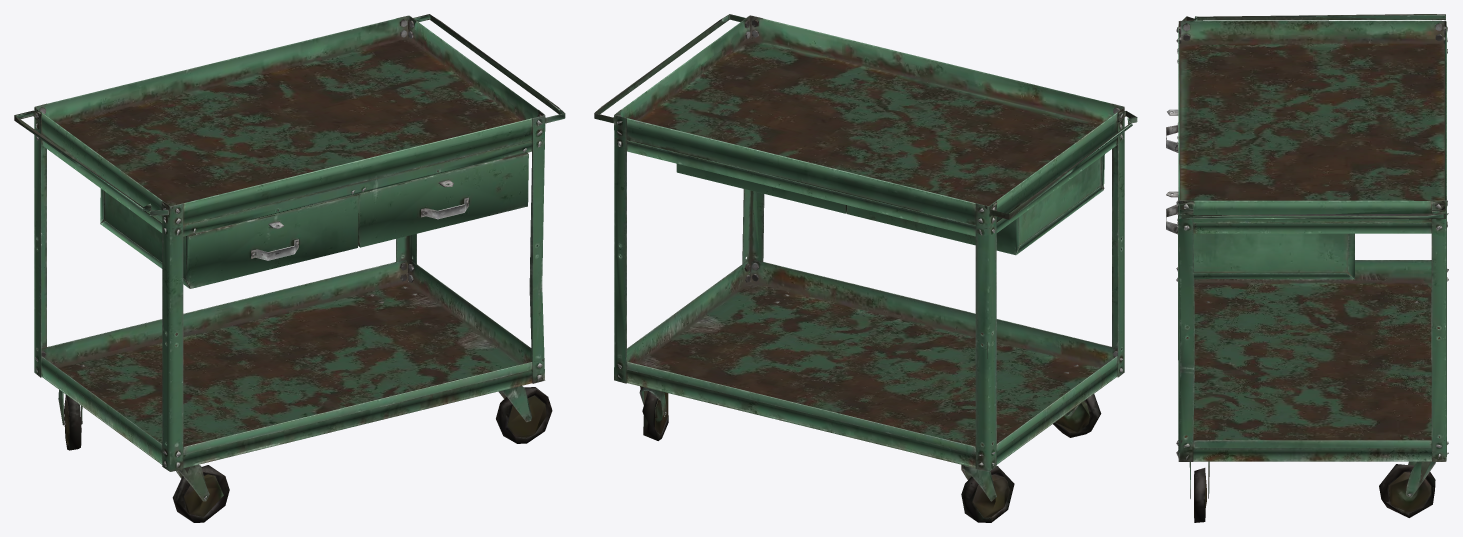
File: workbench-2.glb
The picture shows the model from 3 angles, left to right: view 1: azimuth 30°, elevation 25°; view 2: azimuth 150°, elevation 25°; view 3: azimuth 270°, elevation 25°; orthographic projection.
Visible parts, largest first — view 1: tool_cart; view 2: tool_cart; view 3: tool_cart.
Part boxes in pixels (bbox=[...]): tool_cart: bbox=[14, 14, 565, 522]; tool_cart: bbox=[594, 14, 1137, 522]; tool_cart: bbox=[1166, 14, 1448, 522].
Size of the model in its own units: 1.27 by 0.9619 by 0.7521.
1 material, 1 textured.
